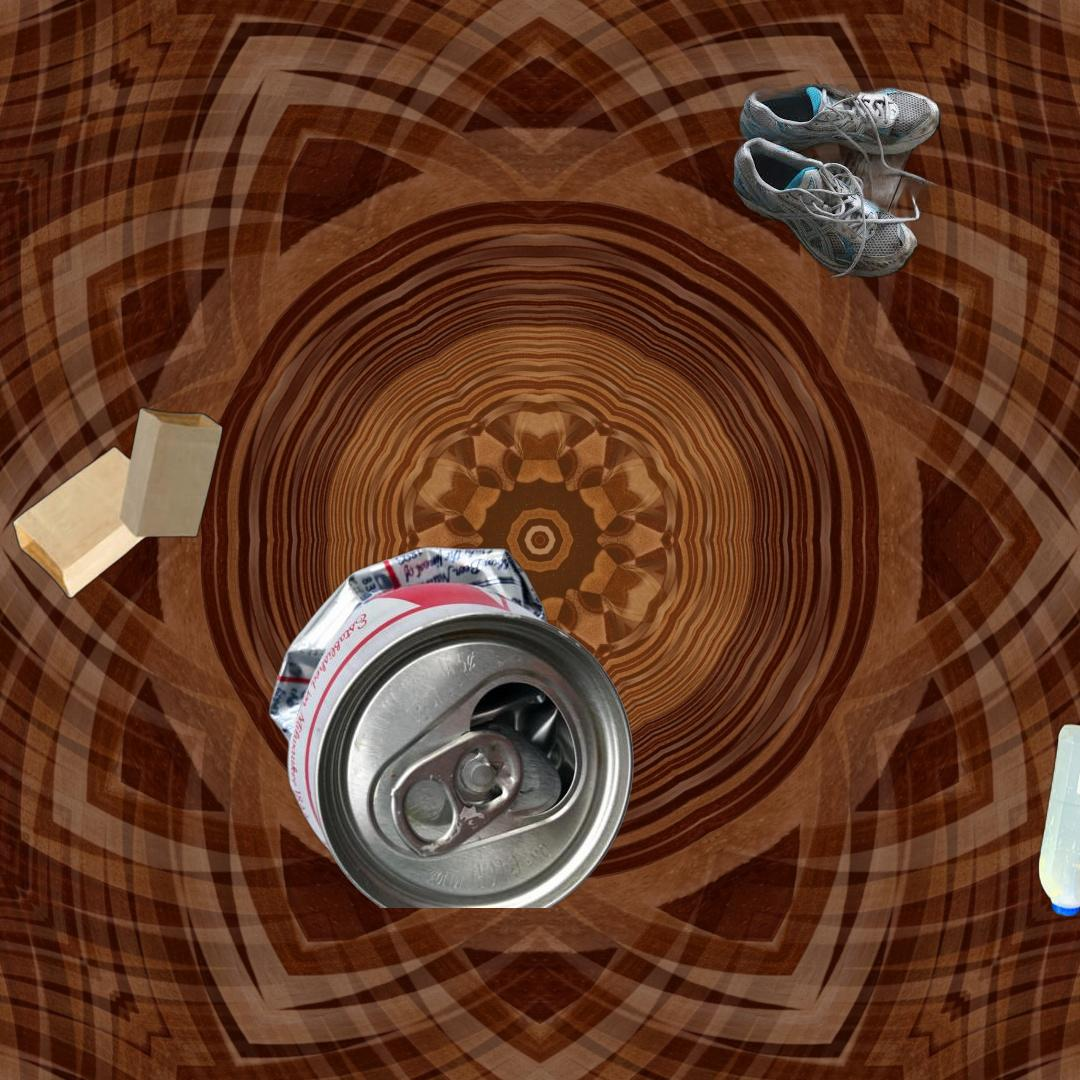metal-cans: (264, 543, 639, 908)
paper-bag: (9, 404, 226, 602)
plastic-bottles: (1034, 718, 1080, 923)
shoes: (696, 84, 955, 278)
